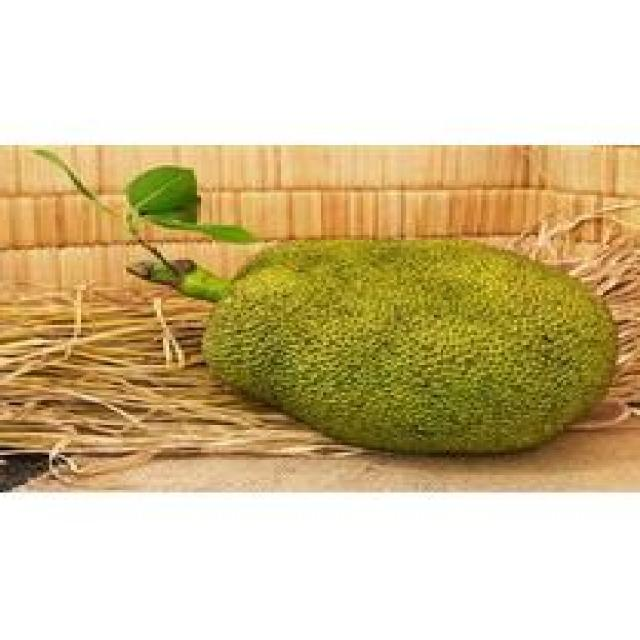fruit: (326, 272, 579, 492)
